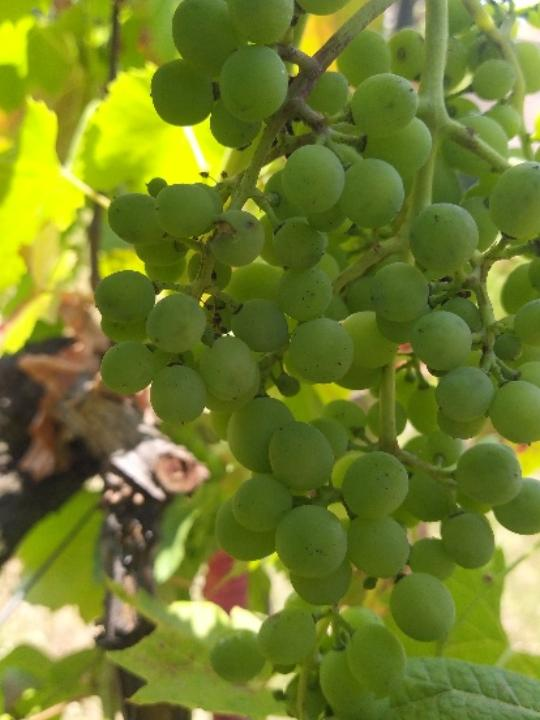grape: (90, 0, 540, 720)
